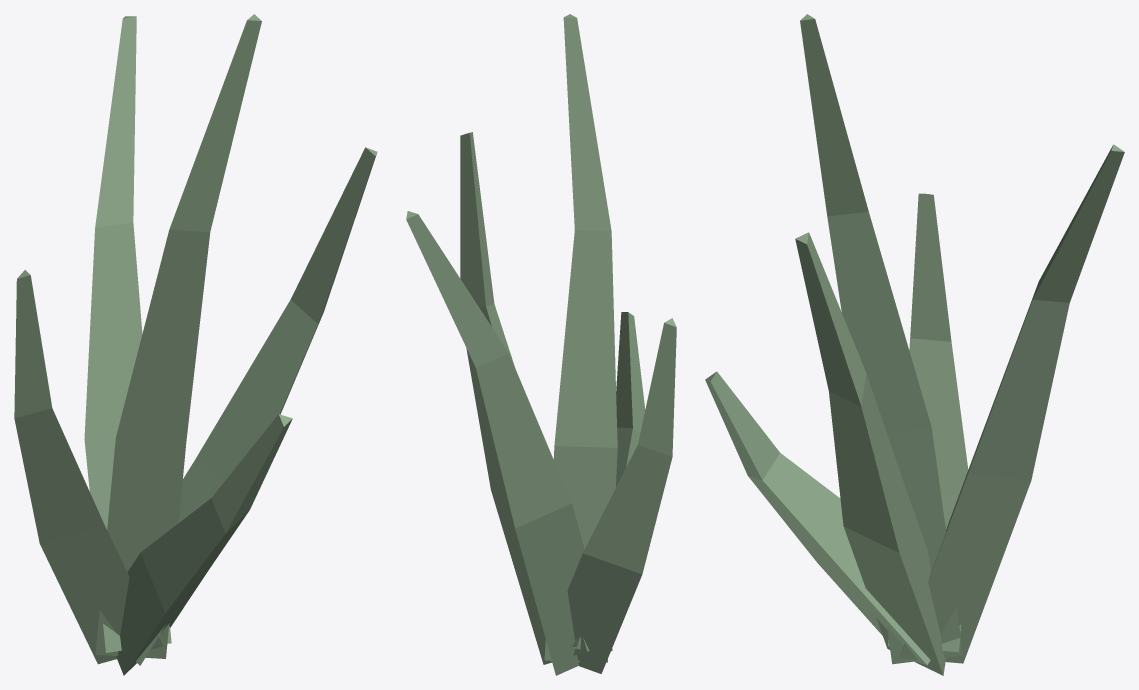
File: Grass.fbx
3 views of the same model, side by side, from view 1: azimuth 30°, elevation 25°; view 2: azimuth 150°, elevation 25°; view 3: azimuth 270°, elevation 25° (orthographic). The views are drawn at different scales.
Visible parts, largest first — view 1: pCylinder6; view 2: pCylinder6; view 3: pCylinder6.
Part boxes in pixels (left/top/right/bottom): pCylinder6: left=14, top=14, right=377, bottom=675; pCylinder6: left=406, top=14, right=676, bottom=675; pCylinder6: left=705, top=14, right=1124, bottom=675.
Size of the model in its own units: 0.4256 by 0.9067 by 0.506.
